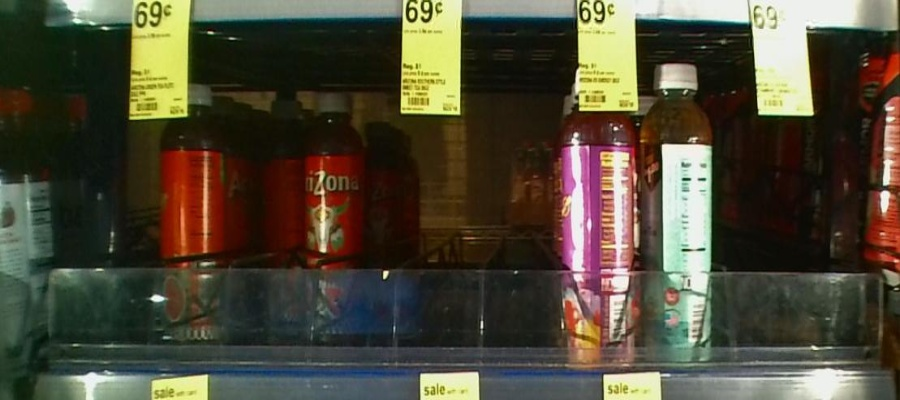bottle: (639, 61, 715, 364), (562, 72, 639, 367), (152, 78, 225, 347), (306, 98, 367, 338), (256, 88, 300, 338)
